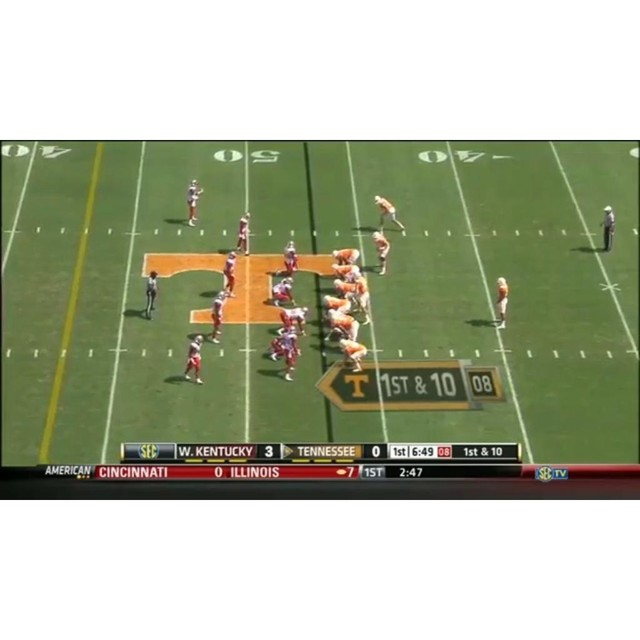american-football-player: (373, 194, 407, 235), (336, 333, 368, 373), (350, 271, 372, 325), (182, 334, 205, 385), (325, 311, 360, 343), (276, 307, 309, 337), (209, 290, 228, 342), (372, 230, 391, 275), (494, 277, 510, 329), (234, 212, 252, 256), (186, 178, 203, 224), (222, 251, 238, 297), (321, 295, 351, 318), (272, 277, 295, 306), (331, 248, 361, 270), (333, 278, 358, 304), (282, 241, 300, 277)
referee: (141, 270, 160, 322), (599, 205, 616, 252)
